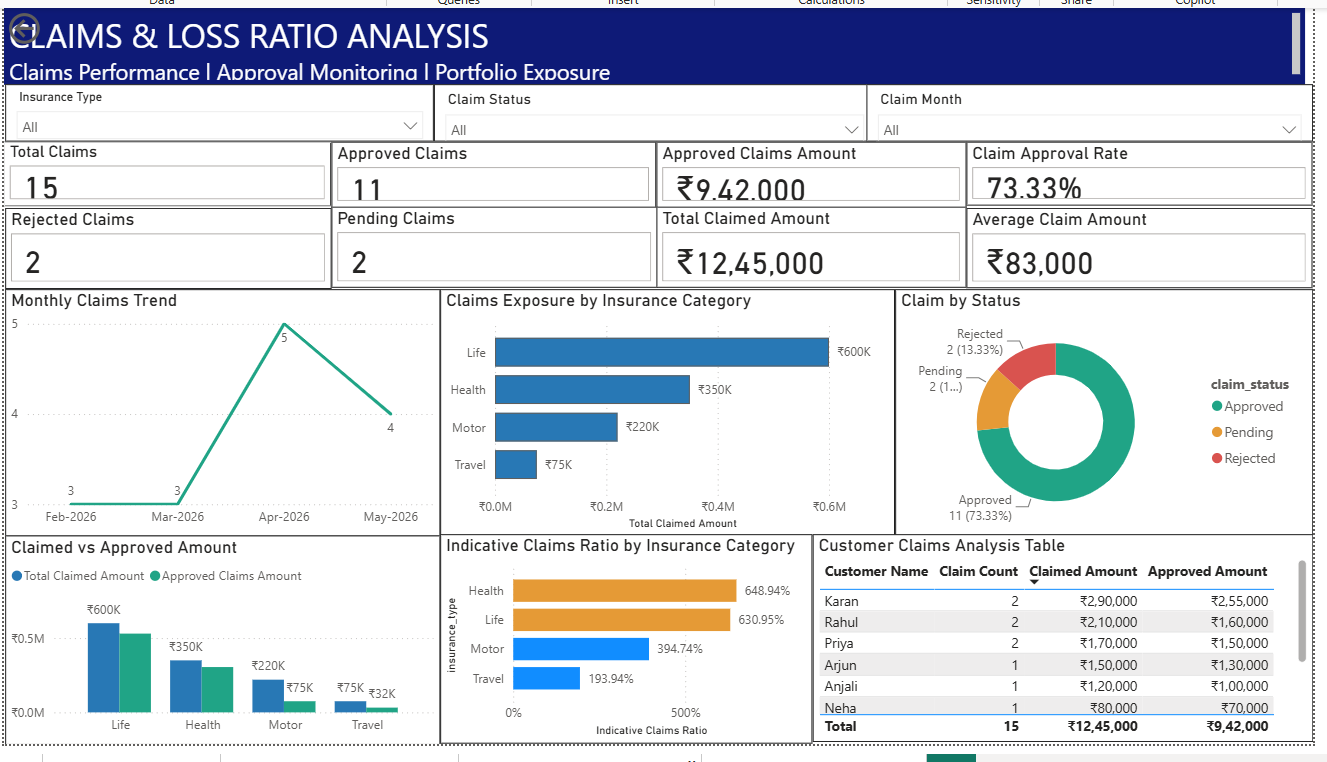

What the dashboard file says about the page in this screenshot:
{"tool":"powerbi","page":{"name":"Claims & Loss Ratio Analysis ","canvas":[1280,720],"ordinal":3},"visuals":[{"type":"textbox","box":[0,0,1272.7,75.2],"z":0},{"type":"cardVisual","title":"Total Claims","fields":{"Data":["Measures (2).Total Claims"]},"box":[0,130.8,320.4,63.6],"z":1},{"type":"cardVisual","title":"Approved Claims","fields":{"Data":["Measures (2).Approved Claims Count"]},"box":[320.4,130.8,317.9,64.8],"z":2},{"type":"cardVisual","title":"Claim Approval Rate","fields":{"Data":["Measures (2).Claim Approval Rate"]},"box":[941.6,130.8,338.7,62.4],"z":3},{"type":"cardVisual","title":"Approved Claims Amount","fields":{"Data":["Measures (2).Approved Claims Amount"]},"box":[638.3,130.8,303.3,64.8],"z":4},{"type":"cardVisual","title":"Rejected Claims","fields":{"Data":["FactClaims.Rejected Claims Count"]},"box":[1.3,195.4,319.4,78.9],"z":5},{"type":"cardVisual","title":"Pending Claims","fields":{"Data":["FactClaims.Pending Claims Count"]},"box":[320.4,194.4,319.2,79.5],"z":6},{"type":"cardVisual","title":"Total Claimed Amount","fields":{"Data":["FactClaims.Total Claimed Amount"]},"box":[638.3,194.4,303.3,79.5],"z":7},{"type":"cardVisual","title":"Average Claim Amount","fields":{"Data":["Measures (2).Average Claim Amount"]},"box":[941.6,195.7,338.7,78.3],"z":8},{"type":"lineChart","title":"Monthly Claims Trend","fields":{"Category":["DimClaimDate.MonthYear"],"Y":["Measures (2).Total Claims"]},"box":[1.5,274.6,425.3,241.7],"z":9},{"type":"clusteredBarChart","title":"Claims Exposure by Insurance Category","fields":{"Category":["DimProduct.insurance_type"],"Y":["FactClaims.Total Claimed Amount"]},"box":[426.8,274.6,444.7,241.7],"z":10},{"type":"donutChart","title":"Claim by Status ","fields":{"Category":["FactClaims.claim_status"],"Y":["CountNonNull(FactClaims.claim_id)"]},"box":[871.4,274.6,408.9,241.7],"z":11},{"type":"clusteredColumnChart","title":"Claimed vs Approved Amount ","fields":{"Category":["DimProduct.insurance_type"],"Y":["FactClaims.Total Claimed Amount","Measures (2).Approved Claims Amount"]},"box":[1.5,516.3,425.3,204.4],"z":12},{"type":"clusteredBarChart","title":"Indicative Claims Ratio  by Insurance Category","fields":{"Category":["DimProduct.insurance_type"],"Y":["Measures (2).Indicative Claims Ratio"]},"box":[426.8,514.8,364.1,204.4],"z":13},{"type":"tableEx","title":"Customer Claims Analysis Table","fields":{"Values":["DimCustomer.customer_name","Measures (2).Total Claims","FactClaims.Total Claimed Amount","Measures (2).Approved Claims Amount"]},"box":[790.9,514.8,489.4,202.9],"z":14},{"type":"actionButton","box":[0,0,100,40],"z":15},{"type":"slicer","fields":{"Values":["DimProduct.insurance_type"]},"box":[1.2,74.6,419.4,56.3],"z":16},{"type":"slicer","fields":{"Values":["FactClaims.claim_status"]},"box":[420.7,74.6,431.7,56.3],"z":17},{"type":"slicer","fields":{"Values":["DimClaimDate.MonthYear"]},"box":[843.8,74.6,436.6,56.3],"z":18}]}

Visuals, with their boxes in screenshot pixels (x1, y1, x2, y2):
textbox: {"x1": 0, "y1": 3, "x2": 1301, "y2": 80}
"Total Claims" cardVisual: {"x1": 0, "y1": 137, "x2": 328, "y2": 202}
"Approved Claims" cardVisual: {"x1": 328, "y1": 137, "x2": 653, "y2": 203}
"Claim Approval Rate" cardVisual: {"x1": 963, "y1": 137, "x2": 1309, "y2": 201}
"Approved Claims Amount" cardVisual: {"x1": 653, "y1": 137, "x2": 963, "y2": 203}
"Rejected Claims" cardVisual: {"x1": 1, "y1": 203, "x2": 328, "y2": 284}
"Pending Claims" cardVisual: {"x1": 328, "y1": 202, "x2": 654, "y2": 283}
"Total Claimed Amount" cardVisual: {"x1": 653, "y1": 202, "x2": 963, "y2": 283}
"Average Claim Amount" cardVisual: {"x1": 963, "y1": 204, "x2": 1309, "y2": 284}
"Monthly Claims Trend" lineChart: {"x1": 2, "y1": 284, "x2": 436, "y2": 531}
"Claims Exposure by Insurance Category" clusteredBarChart: {"x1": 436, "y1": 284, "x2": 891, "y2": 531}
"Claim by Status " donutChart: {"x1": 891, "y1": 284, "x2": 1309, "y2": 531}
"Claimed vs Approved Amount " clusteredColumnChart: {"x1": 2, "y1": 531, "x2": 436, "y2": 740}
"Indicative Claims Ratio  by Insurance Category" clusteredBarChart: {"x1": 436, "y1": 530, "x2": 809, "y2": 739}
"Customer Claims Analysis Table" tableEx: {"x1": 809, "y1": 530, "x2": 1309, "y2": 737}
actionButton: {"x1": 0, "y1": 3, "x2": 102, "y2": 44}
slicer - DimProduct.insurance_type: {"x1": 1, "y1": 80, "x2": 430, "y2": 137}
slicer - FactClaims.claim_status: {"x1": 430, "y1": 80, "x2": 871, "y2": 137}
slicer - DimClaimDate.MonthYear: {"x1": 863, "y1": 80, "x2": 1309, "y2": 137}
